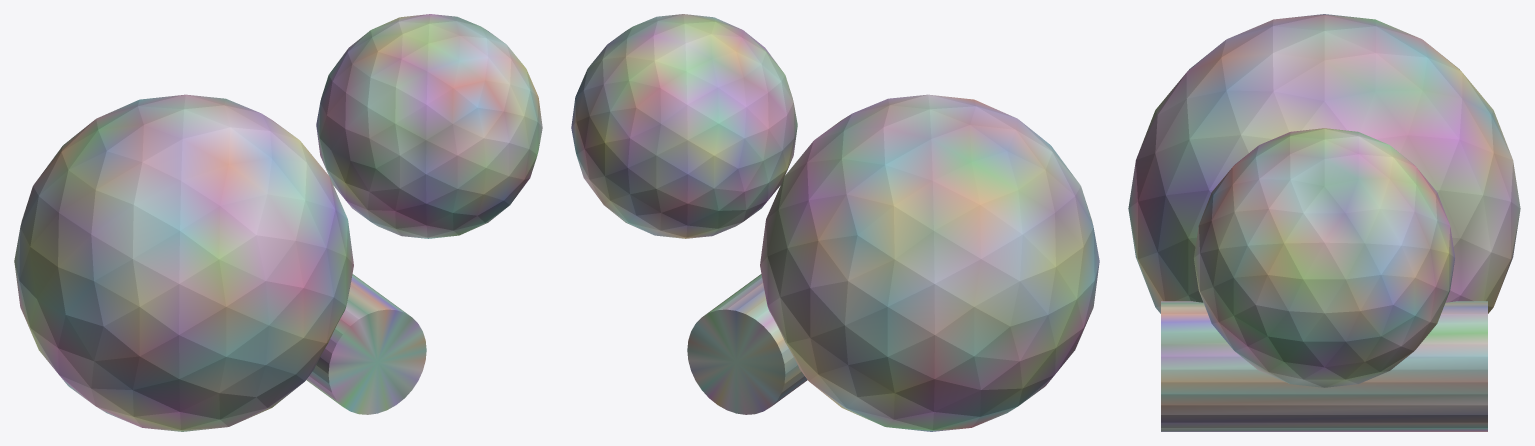
3 views of the same model, side by side, from view 1: azimuth 30°, elevation 25°; view 2: azimuth 150°, elevation 25°; view 3: azimuth 270°, elevation 25° (orthographic). The views are drawn at different scales.
Parts seen in each view (by area): view 1: world; view 2: world; view 3: world.
Boxes of the visible parts, x1,y1,x2,y2 form: world: (14, 14, 542, 431); world: (571, 14, 1099, 431); world: (1128, 14, 1520, 431).
Size of the model in its own units: 2 by 1.3 by 1.2.
